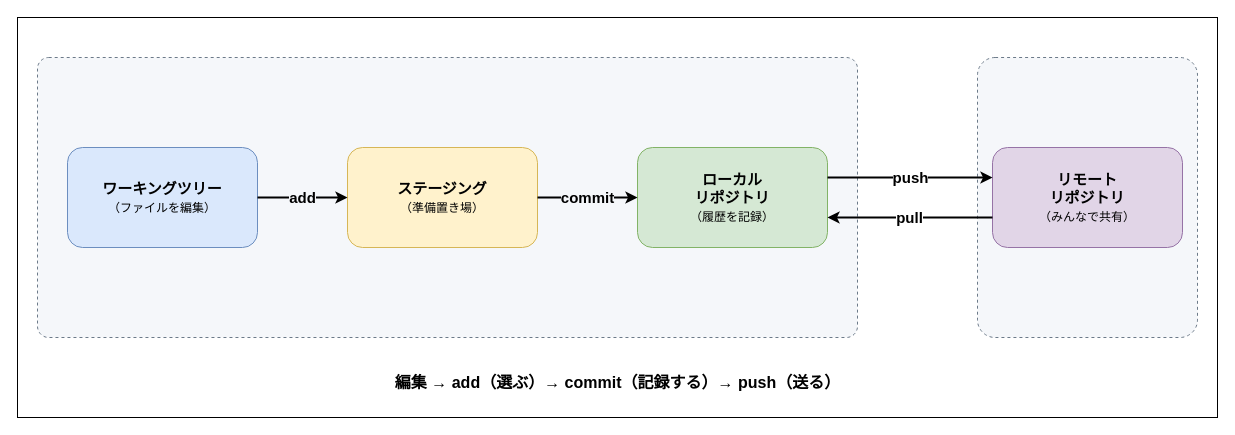
Some shapes in this 1235 by 435 pixel diagram are drawn without their labels. Here are the shapes that lost their labels. From the top down, the box of each, then its label:
(36, 56, 858, 338): 自分のパソコン
(976, 56, 1198, 338): GitHub
